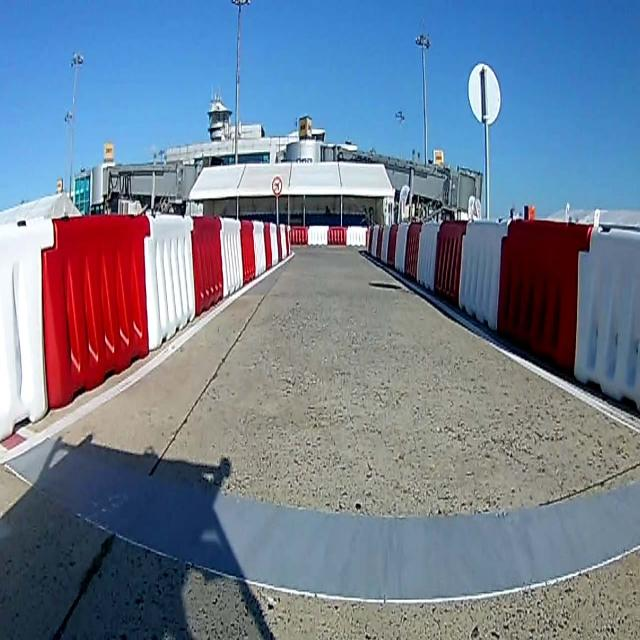soladonulmez: (271, 172, 283, 196)
